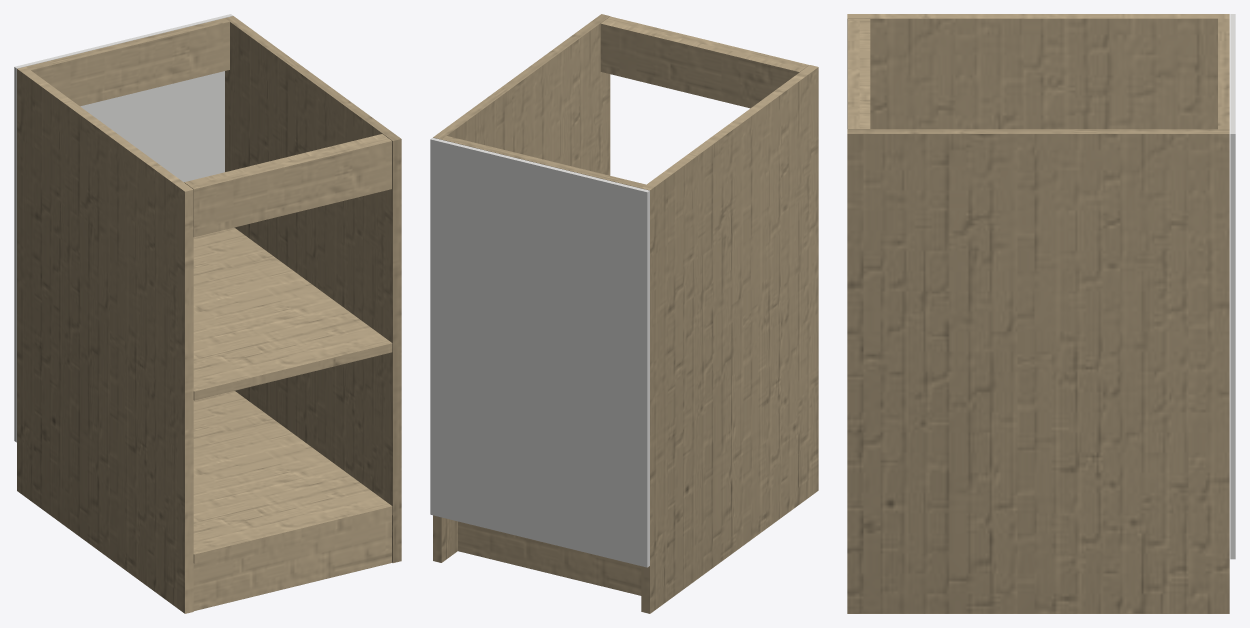
The model's file is modul2group.gltf.
3 views of the same model, side by side, from view 1: azimuth 30°, elevation 25°; view 2: azimuth 150°, elevation 25°; view 3: azimuth 270°, elevation 25° (orthographic). The views are drawn at different scales.
Visible parts, largest first — view 1: 29936, 29750; view 2: 29936, 29750; view 3: 29936, 29750.
Boxes of the visible parts, <box> form: 29936: <box>17,16,401,613</box>; 29750: <box>14,14,232,442</box>; 29936: <box>433,14,818,613</box>; 29750: <box>430,137,649,567</box>; 29936: <box>847,14,1229,613</box>; 29750: <box>1230,14,1235,559</box>.
Size of the model in its own units: 0.424 by 0.79 by 0.579.
96 materials, 84 textured.
